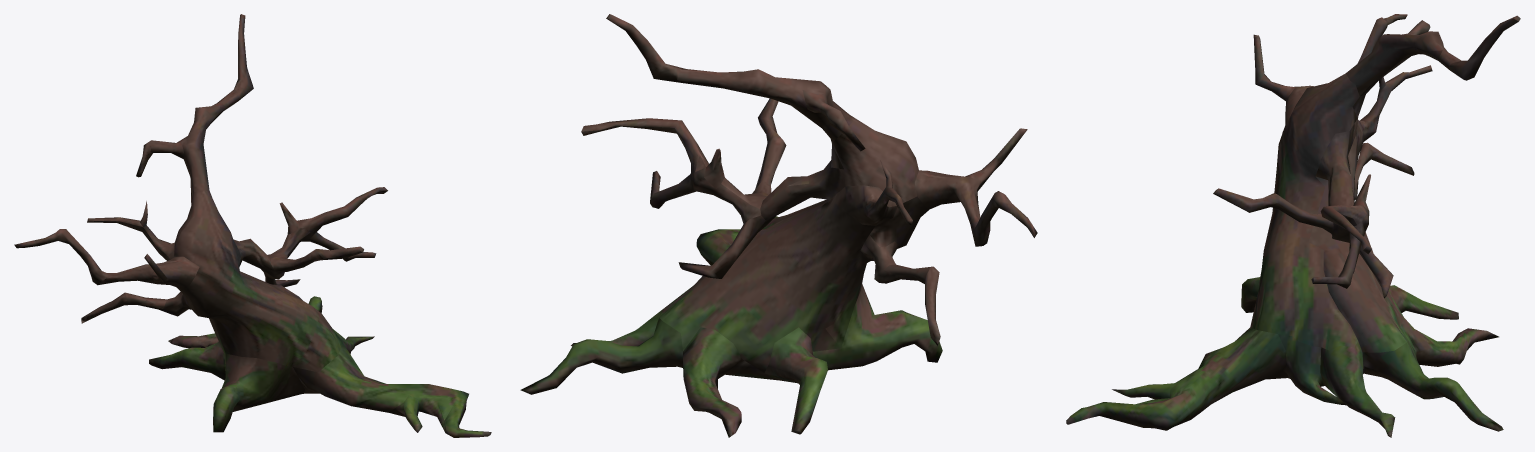
Rendered from TreeTrunk.FBX.
3 views of the same model, side by side, from view 1: azimuth 30°, elevation 25°; view 2: azimuth 150°, elevation 25°; view 3: azimuth 270°, elevation 25° (orthographic). The views are drawn at different scales.
Visible parts, largest first — view 1: Mesh_0079; view 2: Mesh_0079; view 3: Mesh_0079.
Part boxes in pixels (<box>): Mesh_0079: <box>14,14,491,437</box>; Mesh_0079: <box>520,14,1037,437</box>; Mesh_0079: <box>1066,14,1520,437</box>.
Bounding box in the file's own units: 24949 × 20591 × 22562.
